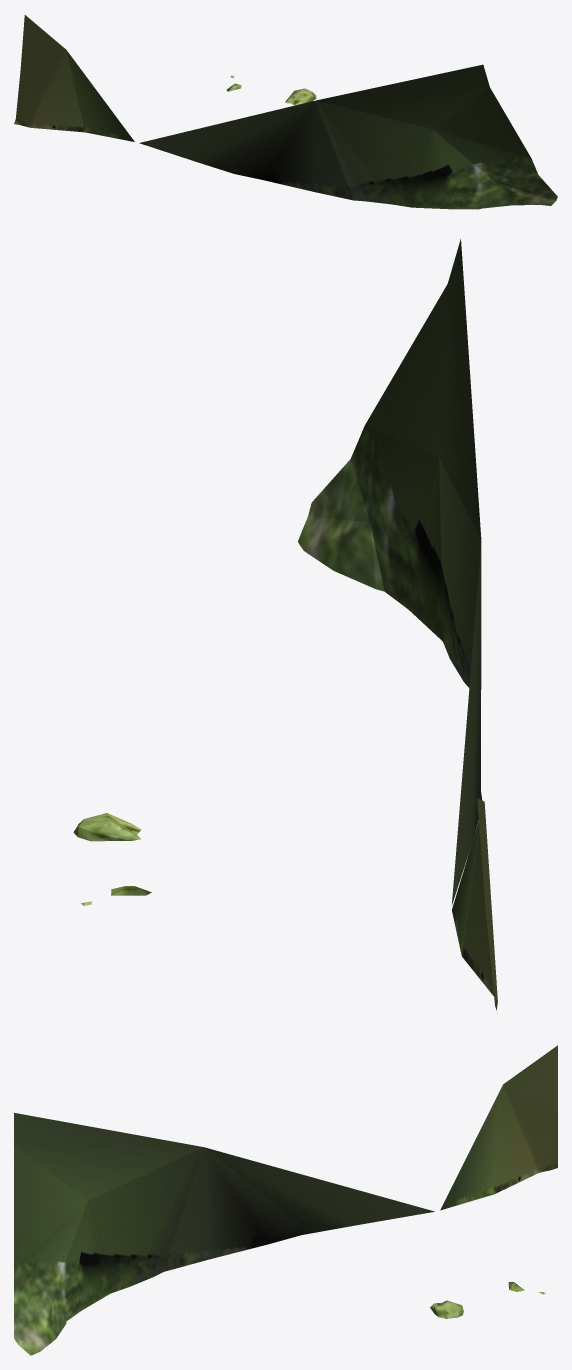
The picture shows the model from 3 angles, top to bottom: view 1: azimuth 30°, elevation 25°; view 2: azimuth 150°, elevation 25°; view 3: azimuth 270°, elevation 25°; orthographic projection. The views are drawn at different scales.
Bounding box in the file's own units: 21.33 × 10.54 × 26.11.
1 material, 1 textured.
